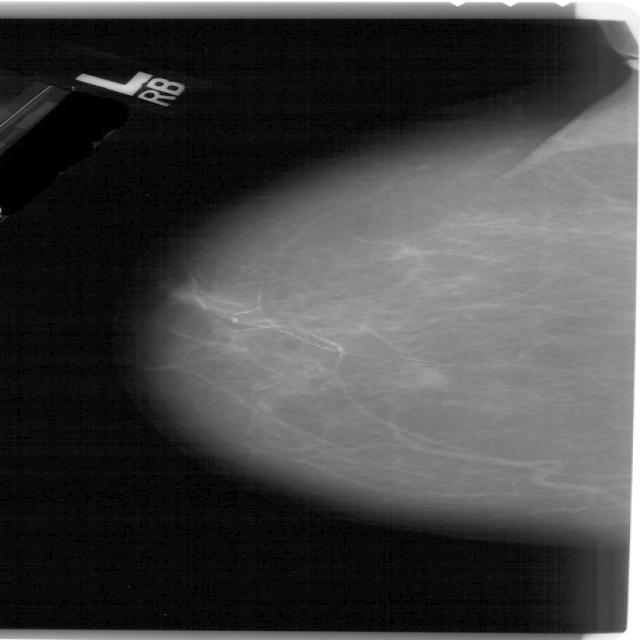tumour: (416, 370, 451, 388)
